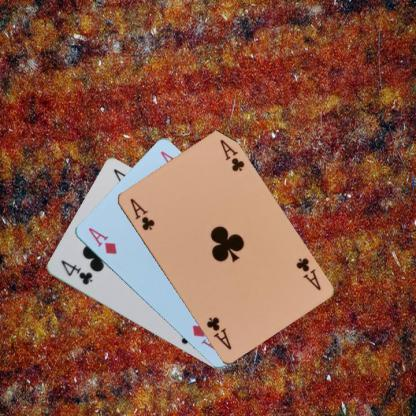4c: (58, 257, 93, 287)
Ac: (127, 195, 156, 232), (293, 255, 322, 292)
Ad: (85, 225, 118, 256)
